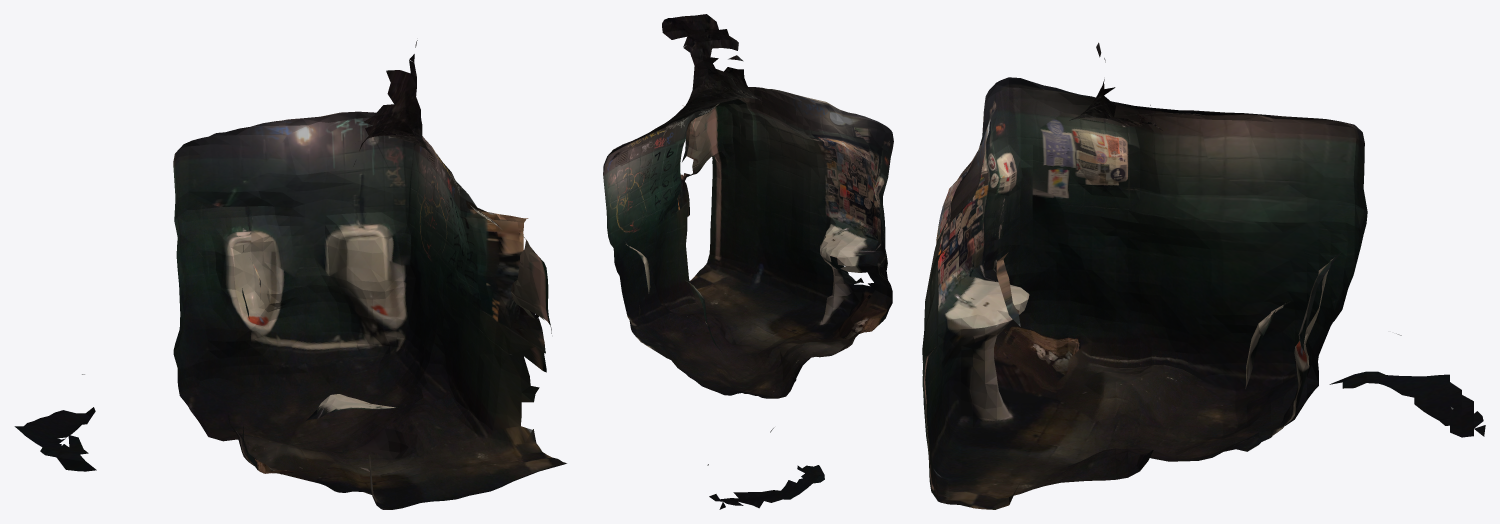
File: pepouz_homme.glb
3 views of the same model, side by side, from view 1: azimuth 30°, elevation 25°; view 2: azimuth 150°, elevation 25°; view 3: azimuth 270°, elevation 25° (orthographic). The views are drawn at different scales.
Parts seen in each view (by area): view 1: mesh; view 2: mesh; view 3: mesh.
Boxes of the visible parts, left/top/right/bottom form: mesh: left=14, top=40, right=566, bottom=509; mesh: left=603, top=14, right=893, bottom=509; mesh: left=922, top=42, right=1485, bottom=509.
Bounding box in the file's own units: 2.94 × 3.85 × 3.78.
1 material, 1 textured.
